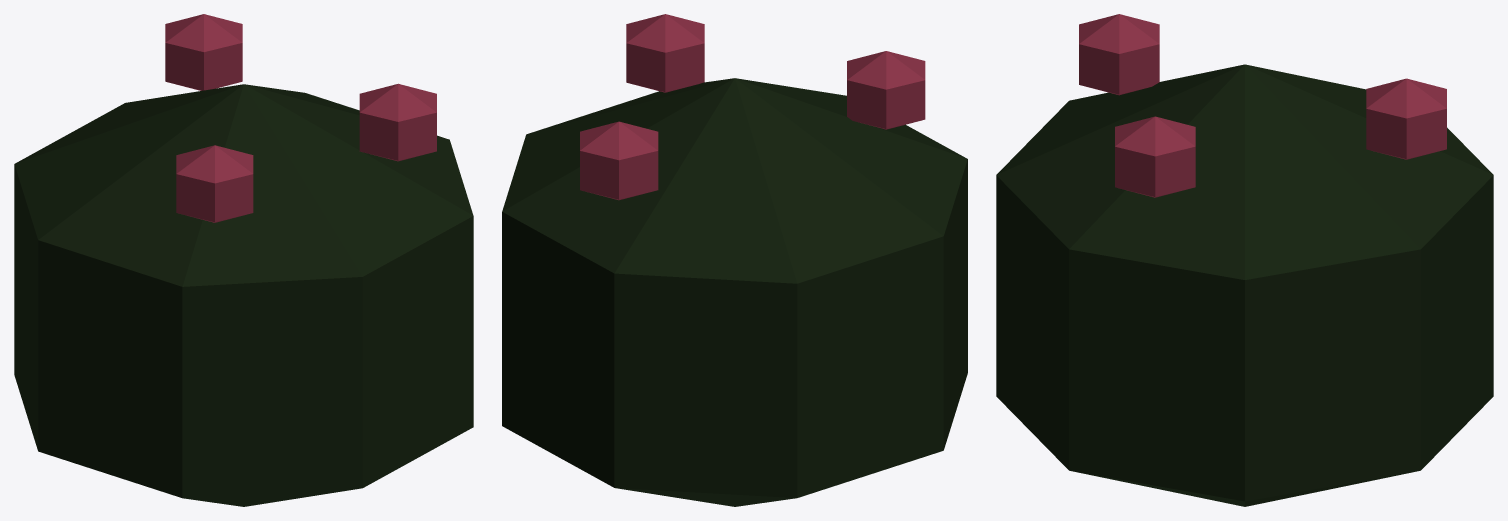
File: RoseShrub_1.obj
The picture shows the model from 3 angles, left to right: view 1: azimuth 30°, elevation 25°; view 2: azimuth 150°, elevation 25°; view 3: azimuth 270°, elevation 25°; orthographic projection. The views are drawn at different scales.
Visible parts, largest first — view 1: RoseShrub_1; view 2: RoseShrub_1; view 3: RoseShrub_1.
Part boxes in pixels (bbox=[...]): RoseShrub_1: bbox=[14, 14, 473, 506]; RoseShrub_1: bbox=[502, 14, 967, 506]; RoseShrub_1: bbox=[996, 14, 1493, 506].
Size of the model in its own units: 0.5543 by 0.55 by 0.5543.
